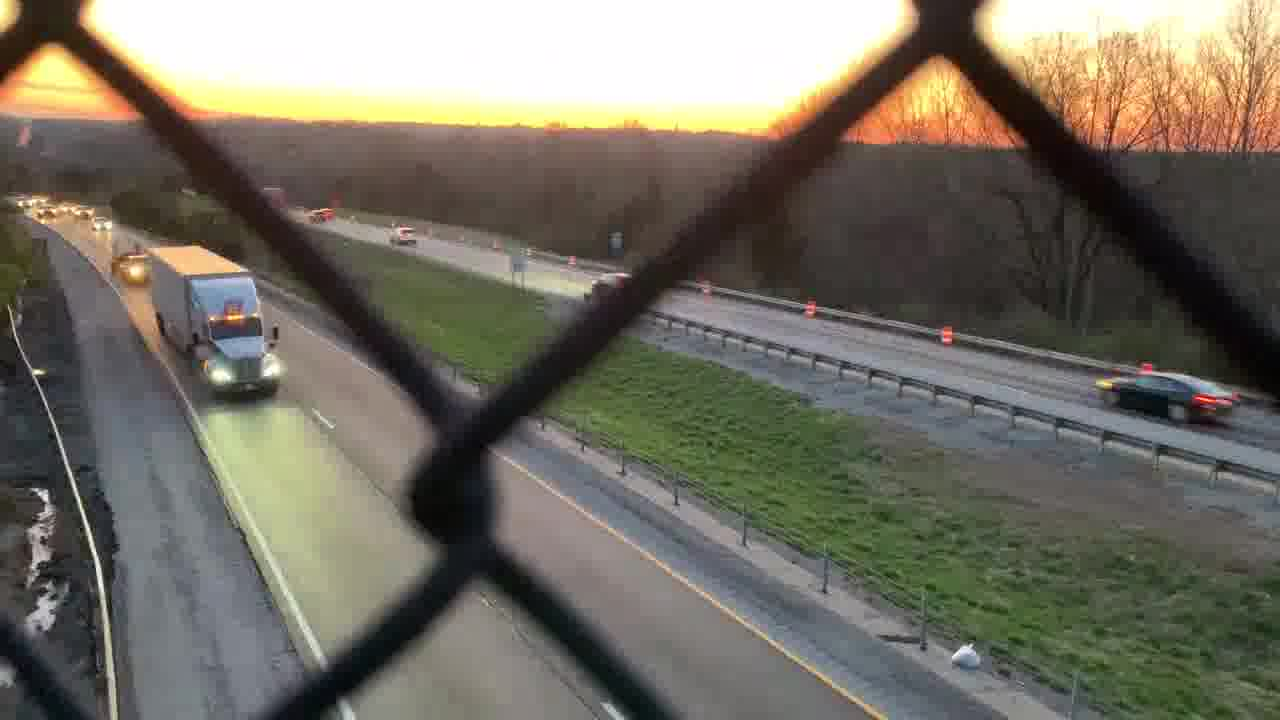heavyTruck: (145, 246, 283, 402)
largeCar: (386, 224, 418, 245)
smallCar: (1099, 369, 1244, 424)
vehicle: (122, 251, 155, 284), (307, 208, 334, 225), (34, 203, 58, 219), (91, 214, 113, 231), (15, 196, 39, 210), (72, 206, 92, 219), (59, 205, 76, 213)
